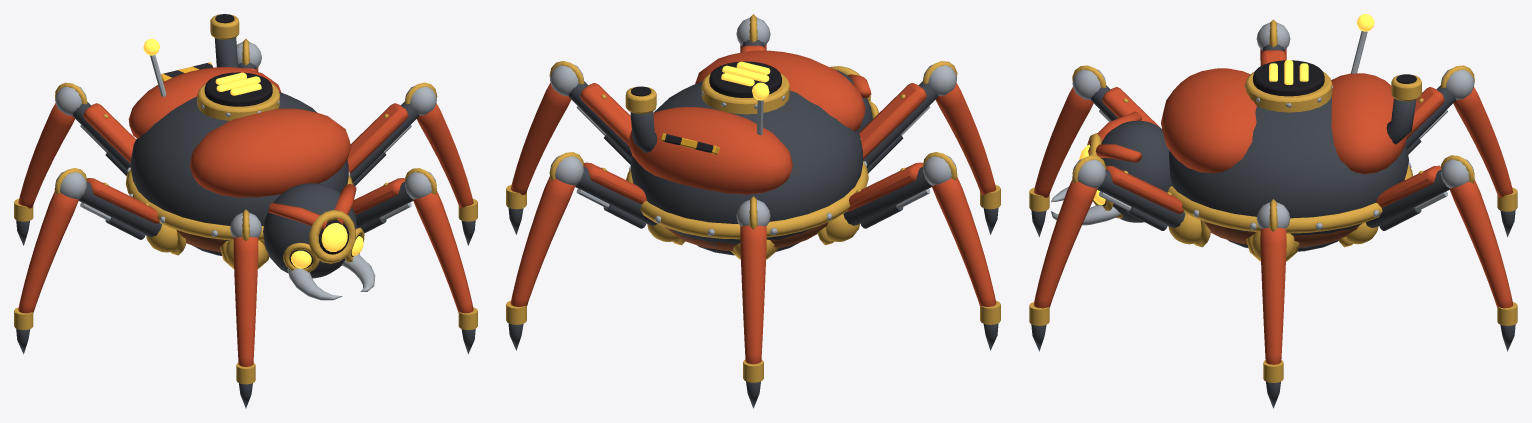
Rendered from enemy_crawler.glb.
The picture shows the model from 3 angles, left to right: view 1: azimuth 30°, elevation 25°; view 2: azimuth 150°, elevation 25°; view 3: azimuth 270°, elevation 25°; orthographic projection. The views are drawn at different scales.
Visible parts, largest first — view 1: Body, Head, Leg0_Lower, Leg4_Lower, Leg3_Lower, Leg1_Lower, Leg5_Lower, Leg4_Upper, Leg1_Upper, Leg5_Upper, Leg0_Upper, Leg4_Hip (+1 smaller); view 2: Body, Leg4_Lower, Leg2_Lower, Leg5_Lower, Leg1_Lower, Leg3_Lower, Leg3_Upper, Leg4_Upper, Leg2_Upper, Leg1_Upper, Head, Leg0_Lower (+1 smaller); view 3: Body, Head, Leg0_Lower, Leg2_Lower, Leg1_Lower, Leg5_Lower, Leg3_Lower, Leg0_Upper, Leg2_Upper, Leg5_Upper, Leg3_Upper, Leg4_Lower (+1 smaller).
Boxes of the visible parts, x1,y1,x2,y2 form: Body: (125,14,353,268); Head: (260,183,375,300); Leg0_Lower: (404,168,477,354); Leg4_Lower: (14,168,87,354); Leg3_Lower: (230,209,261,408); Leg1_Lower: (404,82,477,245); Leg5_Lower: (14,82,87,245); Leg4_Upper: (78,178,161,239); Leg1_Upper: (347,101,419,185); Leg5_Upper: (72,102,136,175); Leg0_Upper: (352,178,413,233); Leg4_Hip: (146,224,177,252); Body: (625,50,868,259); Leg4_Lower: (922,152,1000,350); Leg2_Lower: (506,152,583,350); Leg5_Lower: (736,196,770,408); Leg1_Lower: (506,61,584,234); Leg3_Lower: (923,61,1000,234); Leg3_Upper: (858,81,938,173); Leg4_Upper: (843,162,931,228); Leg2_Upper: (575,162,657,228); Leg1_Upper: (568,81,631,164); Head: (830,66,878,132); Leg0_Lower: (736,14,770,52); Body: (1161,14,1421,261); Head: (1051,111,1171,225); Leg0_Lower: (1029,155,1106,351); Leg2_Lower: (1440,155,1517,351); Leg1_Lower: (1256,199,1290,408); Leg5_Lower: (1440,65,1517,237); Leg3_Lower: (1029,65,1106,237); Leg0_Upper: (1097,165,1185,230); Leg2_Upper: (1365,165,1449,230); Leg5_Upper: (1405,85,1455,154); Leg3_Upper: (1091,85,1160,127); Leg4_Lower: (1256,19,1290,60).
Bounding box in the file's own units: 2.19 × 1.09 × 1.91.
